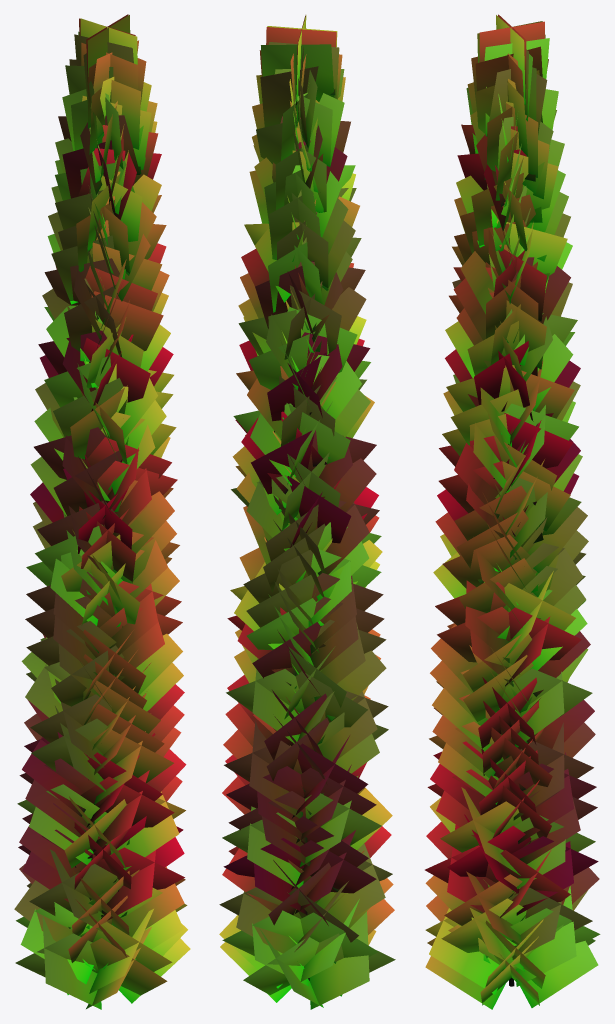
The model's file is URP_P4_Tree_9_LOD_1.fbx.
The picture shows the model from 3 angles, left to right: view 1: azimuth 30°, elevation 25°; view 2: azimuth 150°, elevation 25°; view 3: azimuth 270°, elevation 25°; orthographic projection.
Parts seen in each view (by area): view 1: Tree_9_LOD_1; view 2: Tree_9_LOD_1; view 3: Tree_9_LOD_1.
Part boxes in pixels (box(x1,y1,x2,y2)): Tree_9_LOD_1: box(14, 14, 190, 1009); Tree_9_LOD_1: box(219, 15, 395, 1009); Tree_9_LOD_1: box(425, 14, 600, 1009).
Bounding box in the file's own units: 211 × 1287 × 211.
